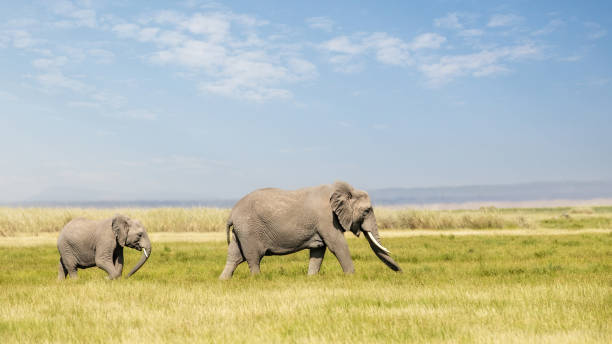africanelephant: (323, 181, 397, 258)
